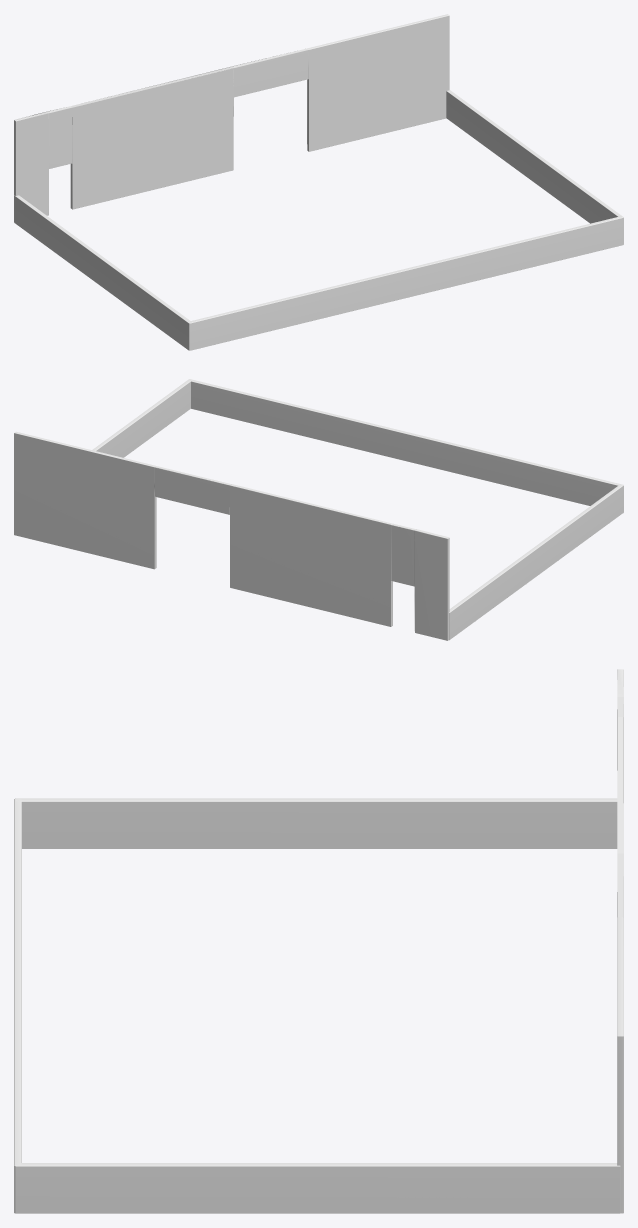
Rendered from warehouse_brick.glb.
3 renders of one model, top to bottom at view 1: azimuth 30°, elevation 25°; view 2: azimuth 150°, elevation 25°; view 3: azimuth 270°, elevation 25°, orthographic. The views are drawn at different scales.
Visible parts, largest first — view 1: WarehouseBrick; view 2: WarehouseBrick; view 3: WarehouseBrick.
Part boxes in pixels (x1,y1,x2,y2): WarehouseBrick: (14,14,623,350); WarehouseBrick: (14,379,623,640); WarehouseBrick: (14,669,623,1213).
Size of the model in its own units: 23.14 by 5.21 by 16.21.
Materials: 1 (1 with a texture image).
